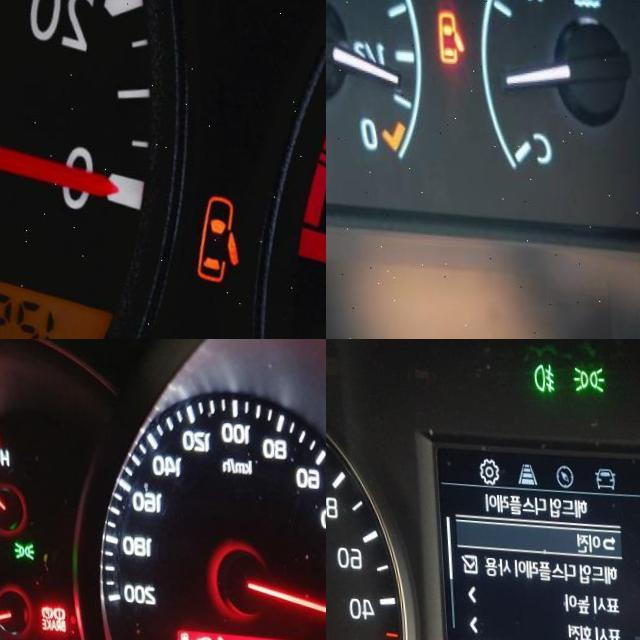FrontFogLight: (533, 354, 555, 387)
SideLamp: (573, 356, 605, 388), (11, 535, 32, 555)
